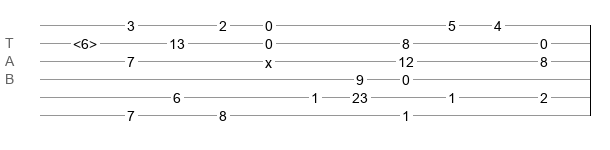0: (265, 18, 273, 28), (265, 36, 273, 46), (402, 72, 410, 82), (540, 36, 548, 46)
1: (311, 90, 319, 100), (402, 108, 410, 118), (448, 90, 456, 100)
12: (398, 54, 414, 64)
13: (169, 36, 185, 46)
2: (219, 18, 227, 28), (540, 90, 548, 100)
23: (352, 90, 368, 100)
3: (127, 18, 135, 28)
4: (494, 18, 502, 28)
5: (448, 18, 456, 28)
6: (173, 90, 181, 100)
7: (127, 108, 135, 118), (127, 54, 135, 64)
8: (219, 108, 227, 118), (402, 36, 410, 46), (540, 54, 548, 64)
9: (356, 72, 364, 82)
harmonic: (73, 36, 97, 46)
x: (265, 55, 272, 63)
